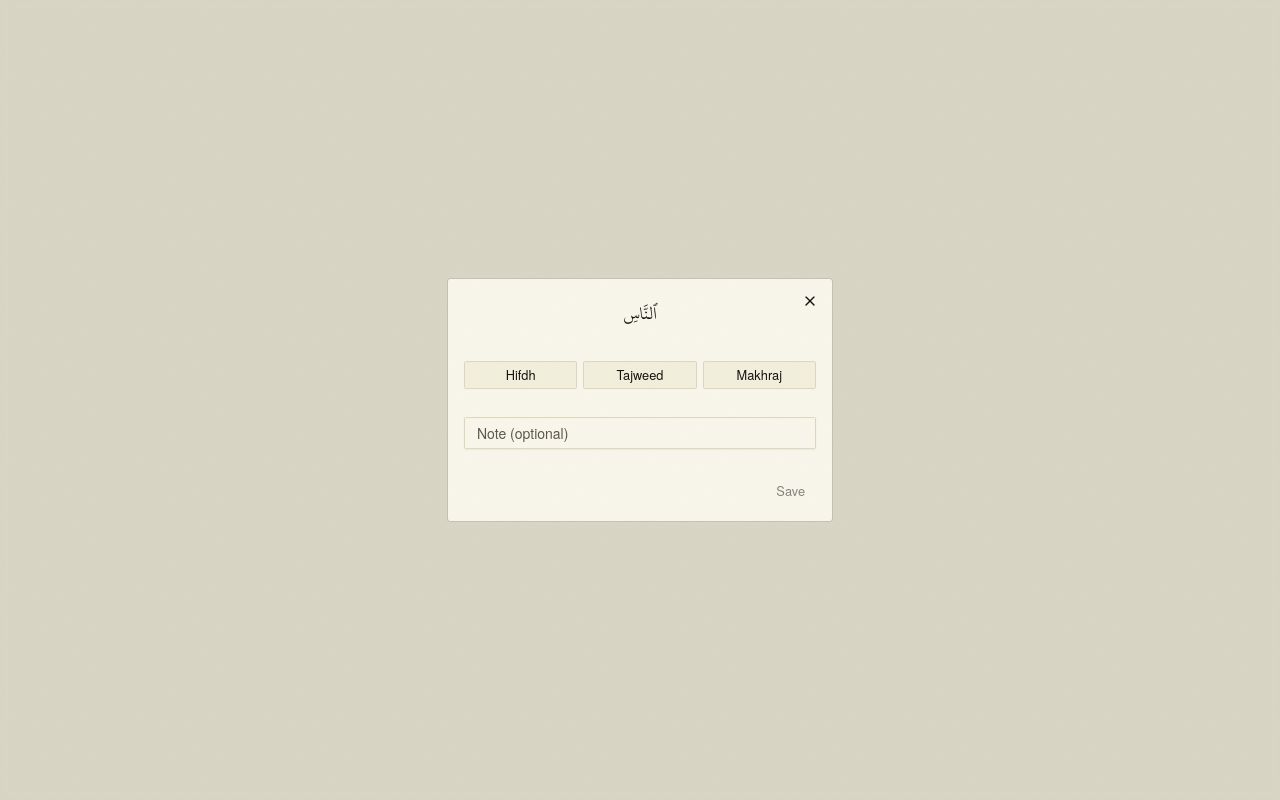
it: MistakeSheet › offers the tapped word's letters for makhraj
Click the button "Makhraj".
click(759, 375)  # box [703,361,816,389]
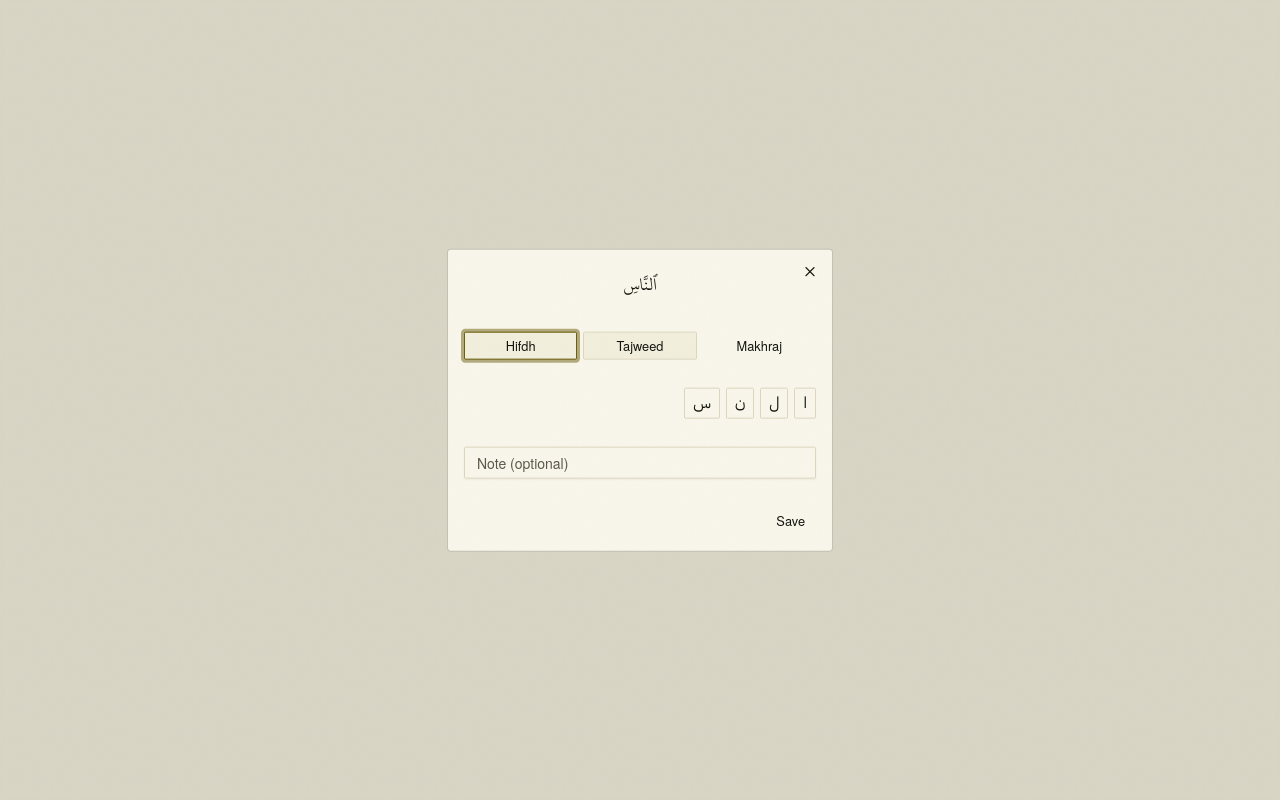
Now the button "ن" is shown, box [726,388,754,418]
Now the button "س" is shown, box [684,388,720,418]
